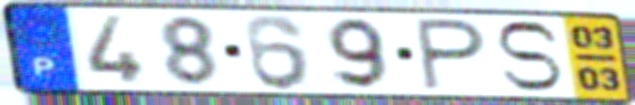4: (82, 13, 150, 86)
6: (241, 12, 314, 93)
8: (156, 13, 224, 89)
9: (321, 16, 393, 92)
P: (413, 16, 490, 94)
S: (491, 19, 565, 94)
